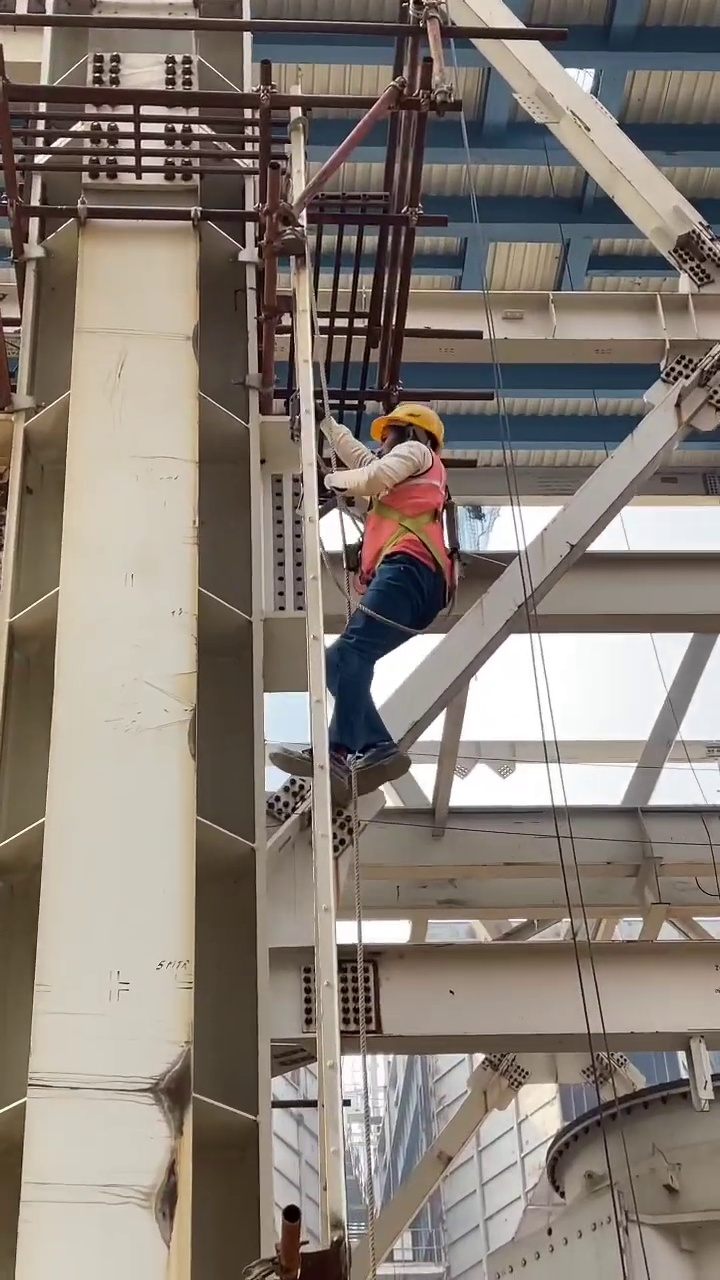Helmet: (374, 405, 447, 444)
Person: (276, 407, 459, 797)
Safety_Harness: (341, 453, 458, 638)
Safety_shoes: (270, 745, 350, 790), (339, 746, 411, 795)
